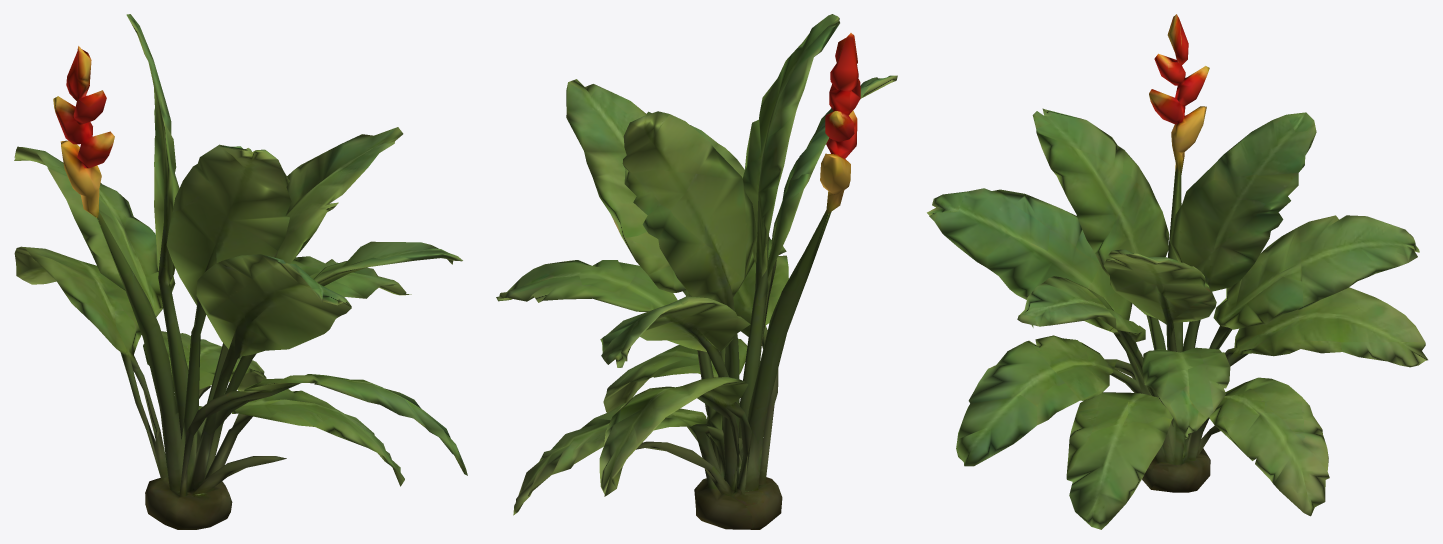
File: heliconia.glb
The picture shows the model from 3 angles, left to right: view 1: azimuth 30°, elevation 25°; view 2: azimuth 150°, elevation 25°; view 3: azimuth 270°, elevation 25°; orthographic projection. The views are drawn at different scales.
Parts seen in each view (by area): view 1: tripo_node_144a4701-07b3-487e-93ad-97f3573de9e5; view 2: tripo_node_144a4701-07b3-487e-93ad-97f3573de9e5; view 3: tripo_node_144a4701-07b3-487e-93ad-97f3573de9e5.
Boxes of the visible parts, left/top/right/bottom form: tripo_node_144a4701-07b3-487e-93ad-97f3573de9e5: left=14, top=14, right=467, bottom=529; tripo_node_144a4701-07b3-487e-93ad-97f3573de9e5: left=496, top=14, right=897, bottom=529; tripo_node_144a4701-07b3-487e-93ad-97f3573de9e5: left=927, top=14, right=1427, bottom=529.
Bounding box in the file's own units: 0.6767 × 0.9261 × 0.9969.
Materials: 1 (1 with a texture image).
